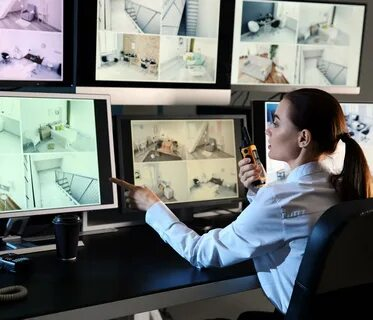awake: (235, 87, 372, 320)
